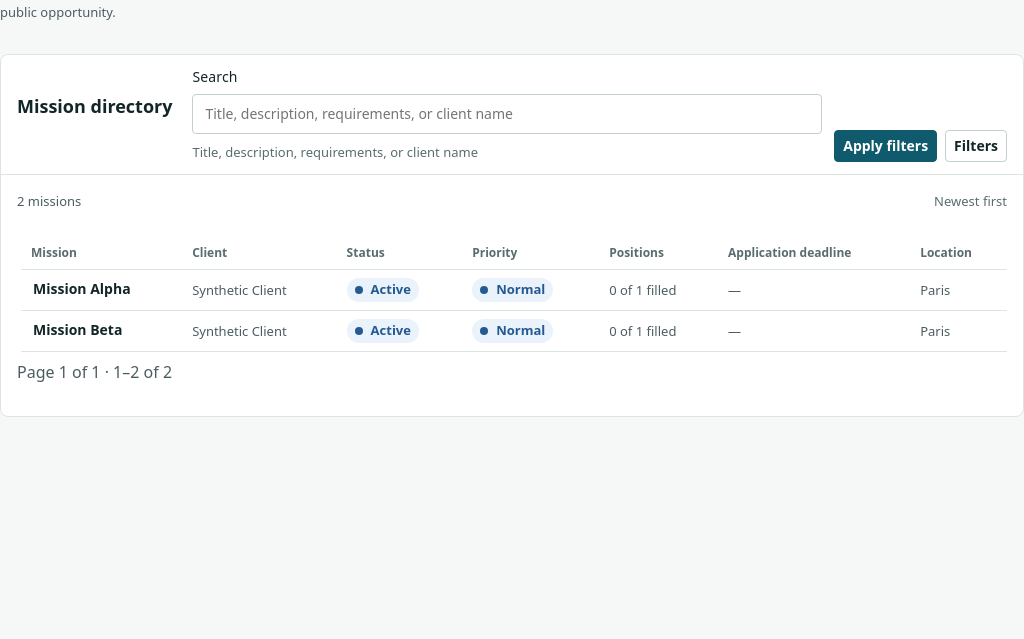
Scenario: Missions detail navigation (#118) › hides the edit form until Edit mission is chosen on Overview
The image size is (1024, 639).
Click the button "Mission Alpha". click: (82, 290)
box: [33,280,131,299]
(page scrolled)
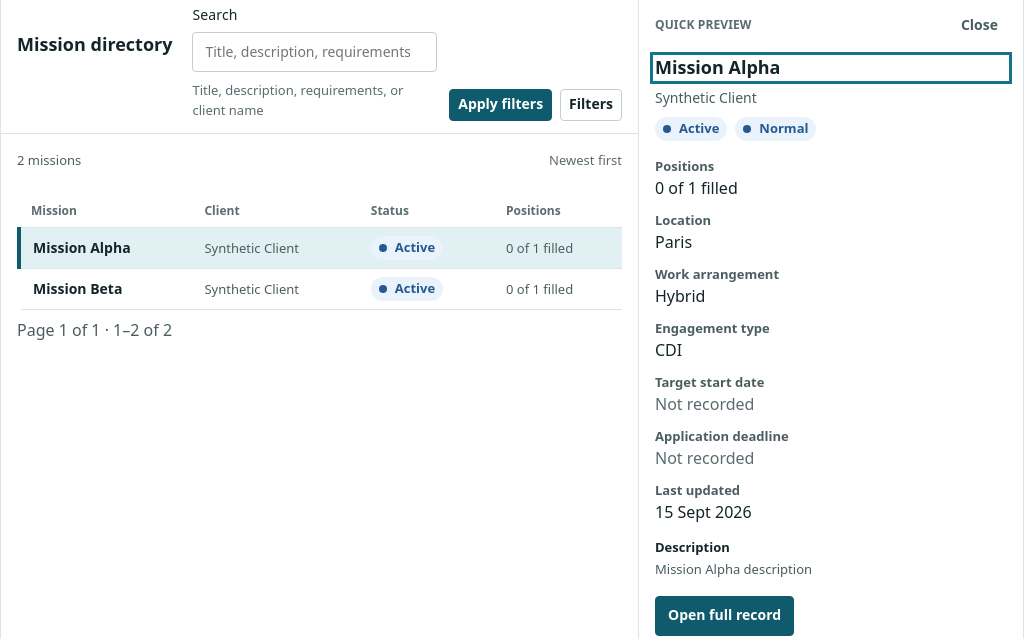
Click the button "Open full record". click: (725, 616)
box: [655,596,794,636]
(page scrolled)
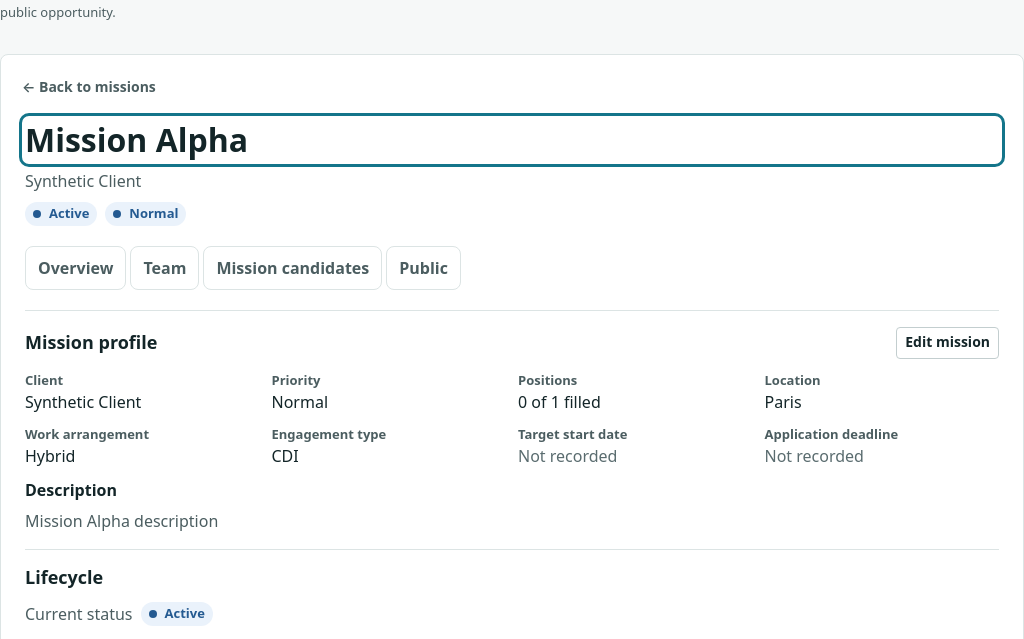
Now the heading "Mission Alpha" is shown, box [25,118,248,161]
Click the button "Edit mission". click: (948, 343)
box: [896,327,999,359]
(page scrolled)
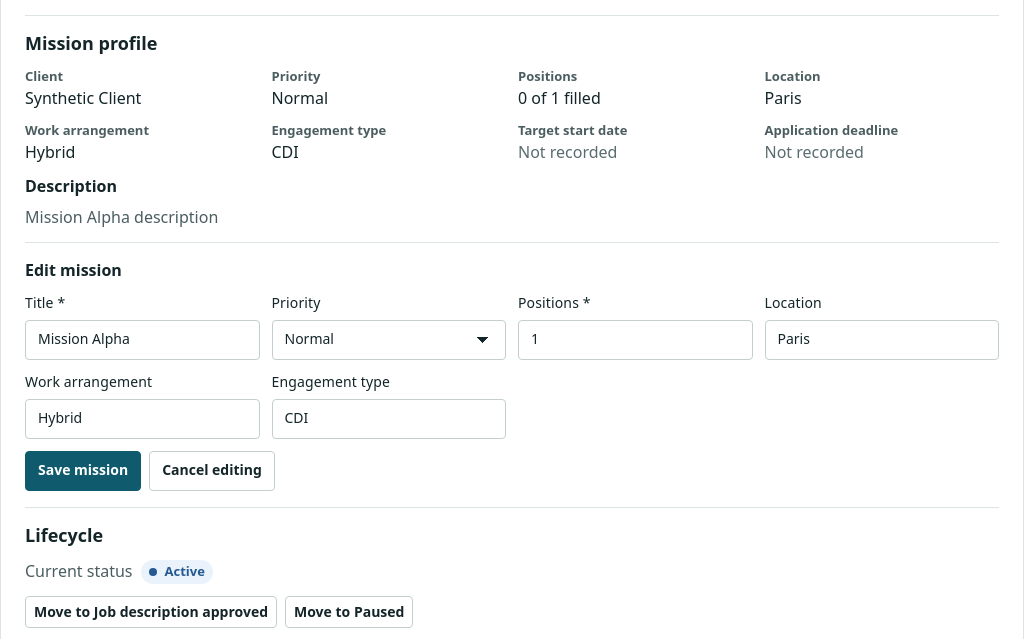
Now the form "Edit mission" is shown, box [25,242,999,491]
